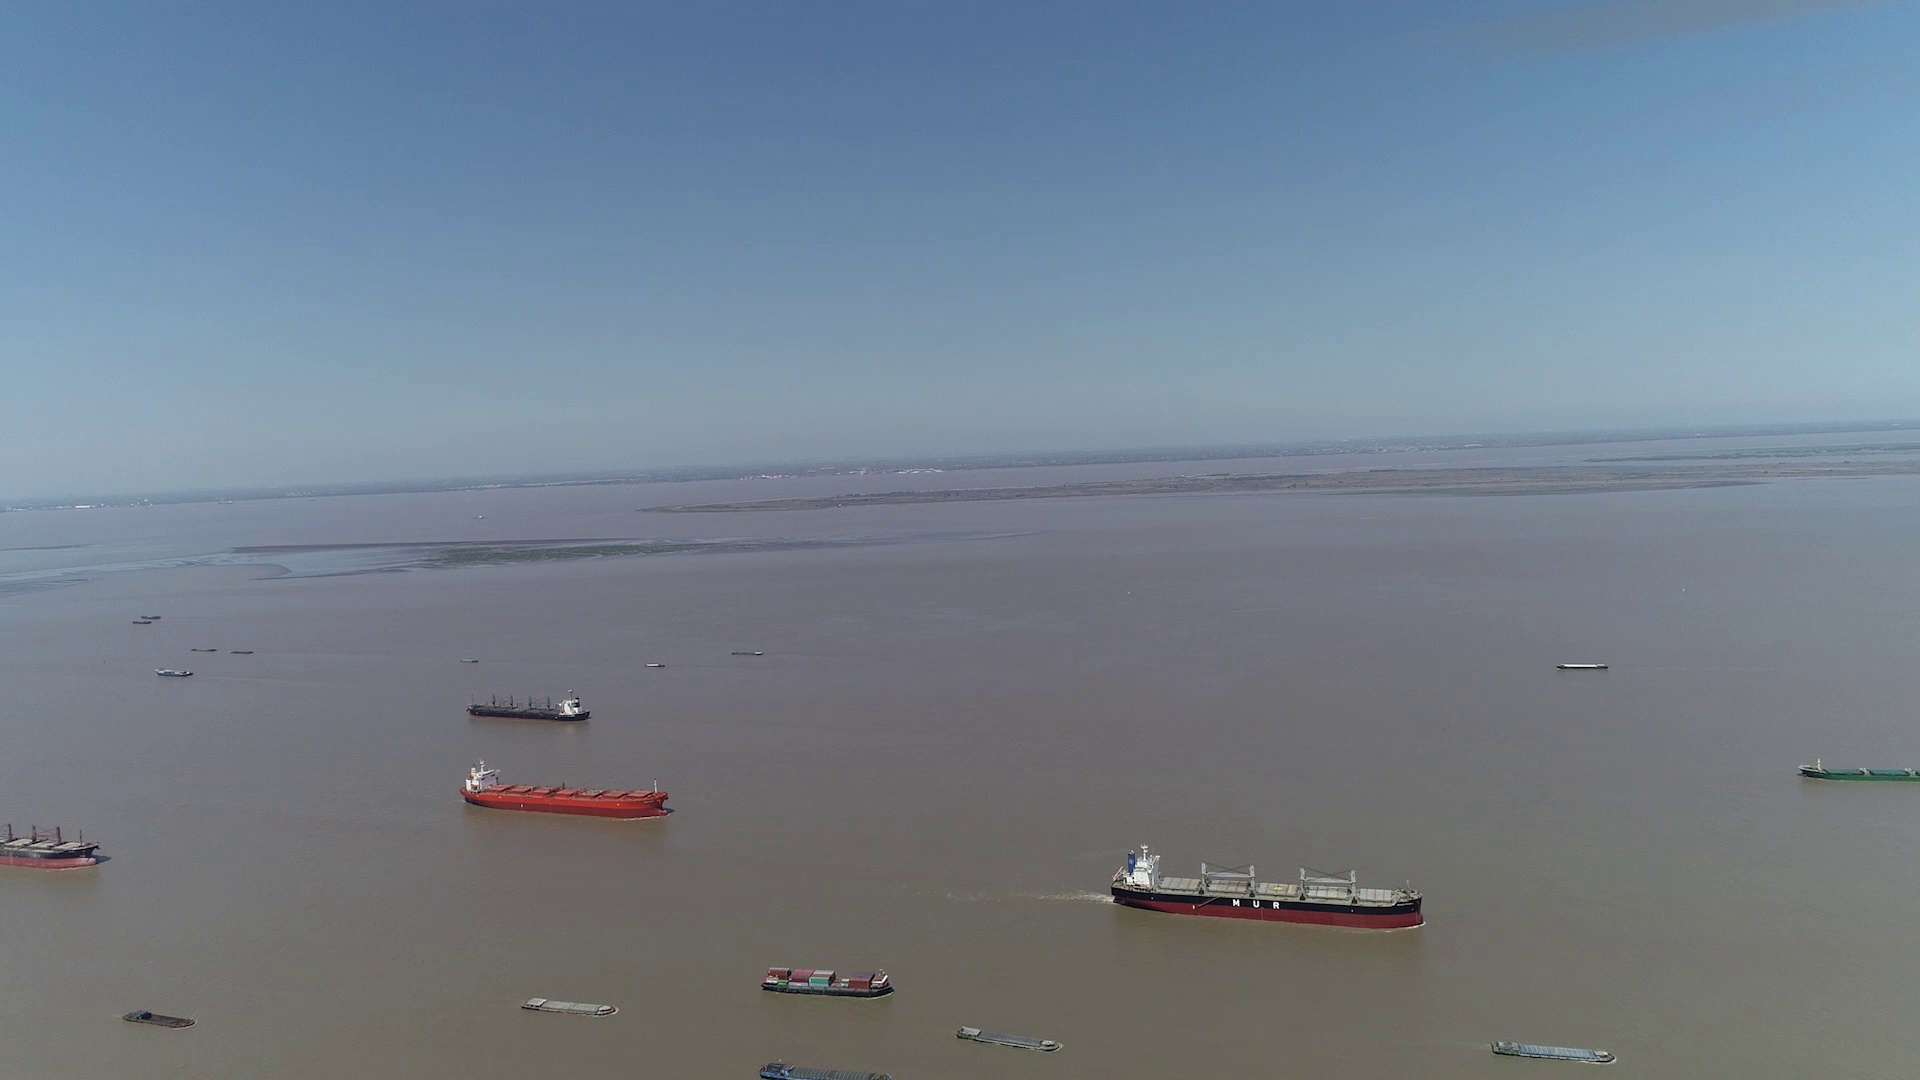ship: (1108, 843, 1425, 930), (463, 758, 669, 818), (1, 808, 102, 869), (761, 965, 894, 998), (468, 690, 592, 723), (1489, 1038, 1618, 1064), (1797, 760, 1919, 783), (956, 1025, 1062, 1051), (761, 1059, 889, 1080), (524, 996, 616, 1017), (123, 1010, 196, 1027), (1553, 662, 1609, 671), (156, 667, 193, 676)
